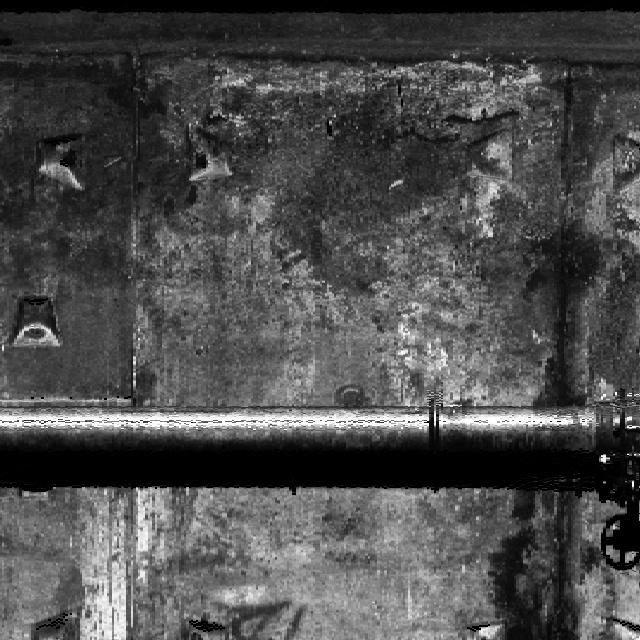leakage: (521, 165, 607, 407), (495, 475, 620, 639)
